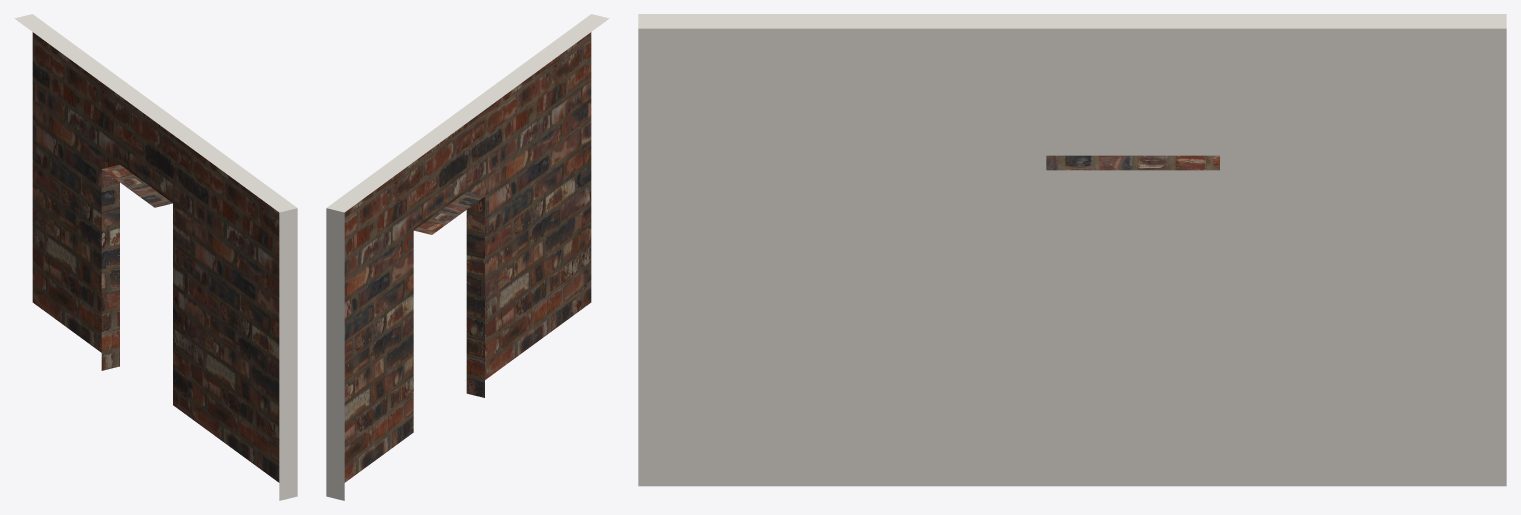
Rendered from brick-wall.glb.
3 views of the same model, side by side, from view 1: azimuth 30°, elevation 25°; view 2: azimuth 150°, elevation 25°; view 3: azimuth 270°, elevation 25° (orthographic). The views are drawn at different scales.
Parts seen in each view (by area): view 1: brick-wall; view 2: brick-wall; view 3: brick-wall.
Part boxes in pixels (bbox=[...]): brick-wall: bbox=[14, 14, 297, 500]; brick-wall: bbox=[326, 14, 609, 500]; brick-wall: bbox=[638, 14, 1506, 486].
Size of the model in its own units: 0.2 by 3 by 5.
Materials: 2 (1 with a texture image).
